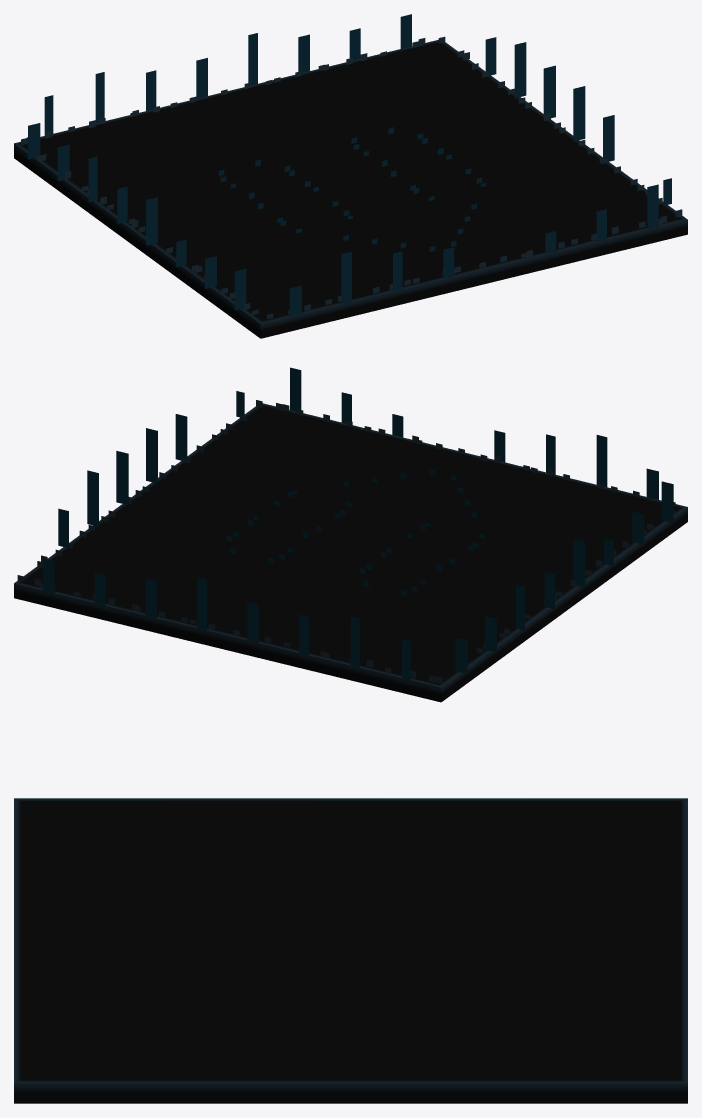
Rendered from hack_pad.glb.
3 views of the same model, one above another, from view 1: azimuth 30°, elevation 25°; view 2: azimuth 150°, elevation 25°; view 3: azimuth 270°, elevation 25° (orthographic). The views are drawn at different scales.
Parts seen in each view (by area): view 1: pad_plate, pad_streaks, pad_rim_pts, pad_marks; view 2: pad_plate, pad_streaks, pad_rim_pts, pad_marks; view 3: pad_plate.
Part boxes in pixels (bbox=[...]): pad_plate: bbox=[14, 40, 687, 338]; pad_streaks: bbox=[28, 14, 671, 316]; pad_rim_pts: bbox=[21, 36, 682, 319]; pad_marks: bbox=[218, 127, 486, 251]; pad_plate: bbox=[14, 403, 687, 702]; pad_streaks: bbox=[43, 367, 673, 679]; pad_rim_pts: bbox=[17, 400, 675, 683]; pad_marks: bbox=[226, 469, 484, 596]; pad_plate: bbox=[14, 798, 687, 1103].
Size of the model in its own units: 0.9259 by 0.1379 by 0.9.
